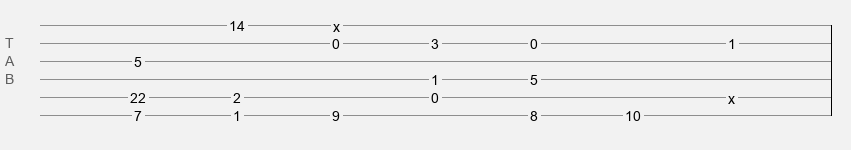0: (332, 36, 340, 46), (431, 90, 439, 100), (530, 36, 538, 46)
1: (233, 108, 241, 118), (431, 72, 439, 82), (728, 36, 736, 46)
10: (625, 108, 641, 118)
14: (229, 18, 245, 28)
2: (233, 90, 241, 100)
22: (130, 90, 146, 100)
3: (431, 36, 439, 46)
5: (134, 54, 142, 64), (530, 72, 538, 82)
7: (134, 108, 142, 118)
8: (530, 108, 538, 118)
9: (332, 108, 340, 118)
x: (333, 19, 340, 27), (728, 91, 735, 99)
